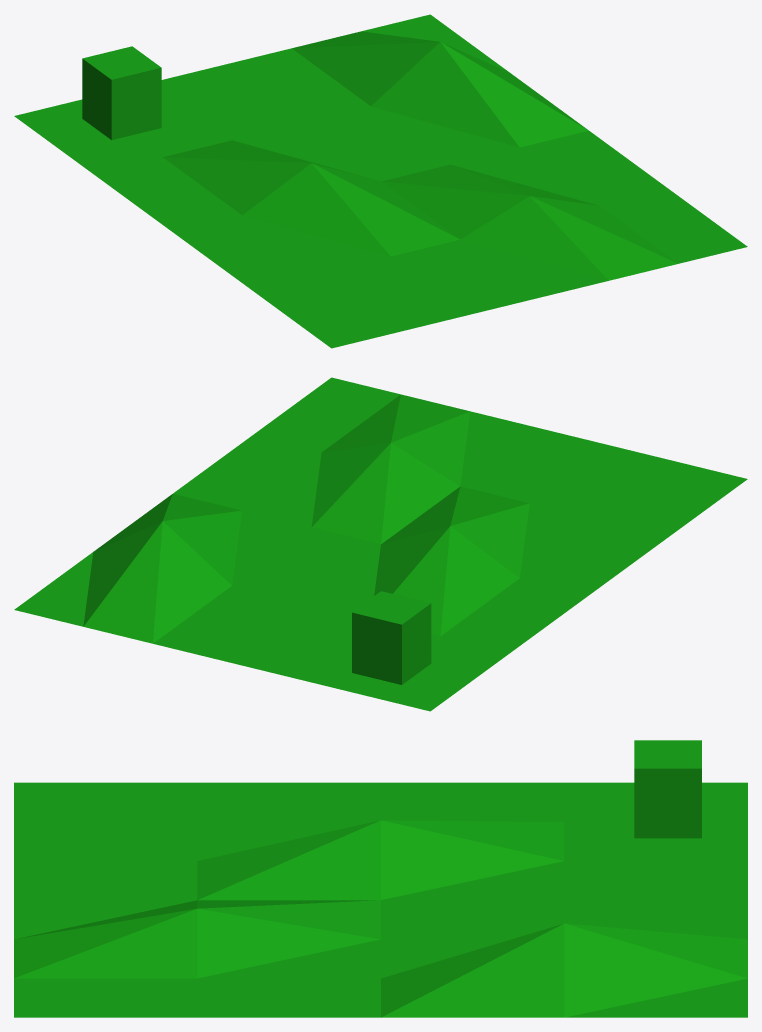
The model's file is Ground.obj.
The picture shows the model from 3 angles, top to bottom: view 1: azimuth 30°, elevation 25°; view 2: azimuth 150°, elevation 25°; view 3: azimuth 270°, elevation 25°; orthographic projection. The views are drawn at different scales.
Parts seen in each view (by area): view 1: Plane; view 2: Plane; view 3: Plane.
Boxes of the visible parts, x1=… form: Plane: x1=14, y1=14, x2=747, y2=348; Plane: x1=14, y1=377, x2=747, y2=711; Plane: x1=14, y1=740, x2=747, y2=1017.
Bounding box in the file's own units: 114 × 16.21 × 151.
